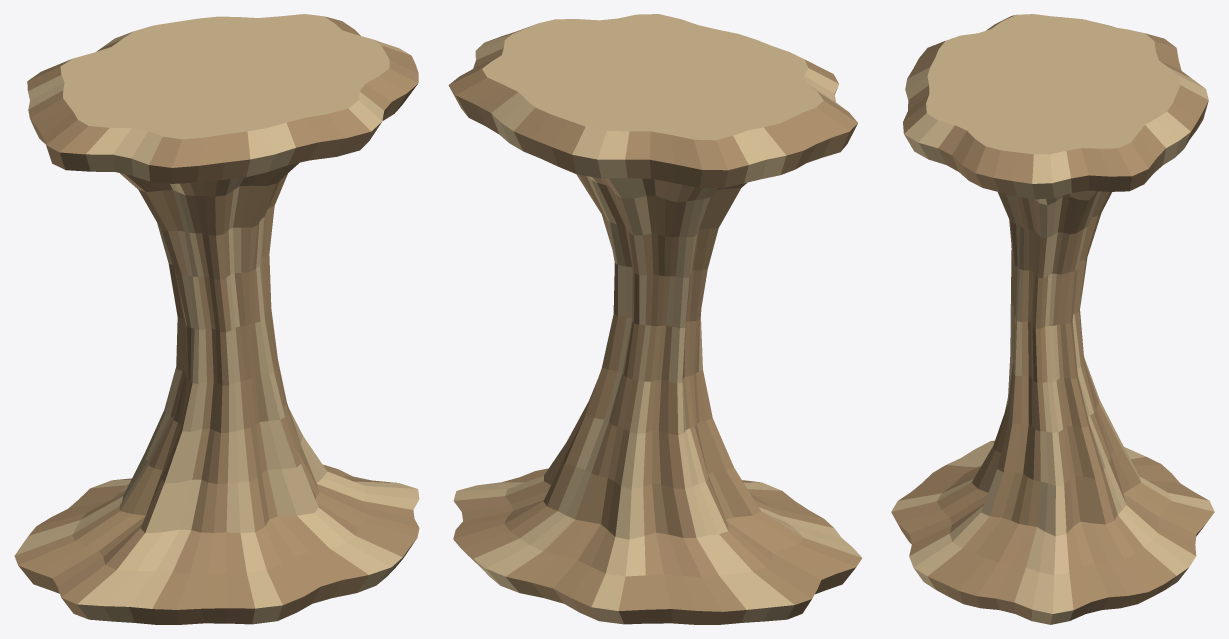
Rendered from cave-column.glb.
3 renders of one model, left to right at view 1: azimuth 30°, elevation 25°; view 2: azimuth 150°, elevation 25°; view 3: azimuth 270°, elevation 25°, orthographic. The views are drawn at different scales.
Parts seen in each view (by area): view 1: continuous-fluted-column-and-attachments; view 2: continuous-fluted-column-and-attachments; view 3: continuous-fluted-column-and-attachments.
Boxes of the visible parts, x1,y1,x2,y2 form: continuous-fluted-column-and-attachments: [14, 14, 419, 624]; continuous-fluted-column-and-attachments: [448, 14, 862, 624]; continuous-fluted-column-and-attachments: [891, 14, 1214, 624].
Size of the model in its own units: 2.62 by 3.15 by 2.02.
